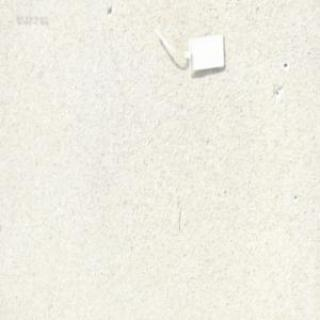LuggageTagtrack_idkeyframe: (148, 27, 226, 75)
